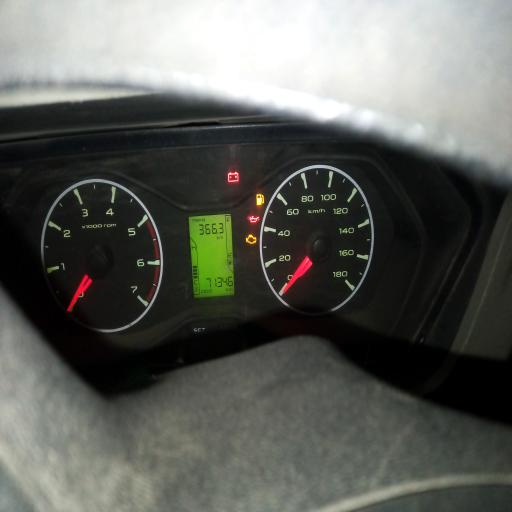check_engine: (245, 234, 256, 244)
oil: (248, 214, 260, 224)
tachometer: (41, 177, 163, 334)
vehicle_charging: (228, 172, 238, 182)
